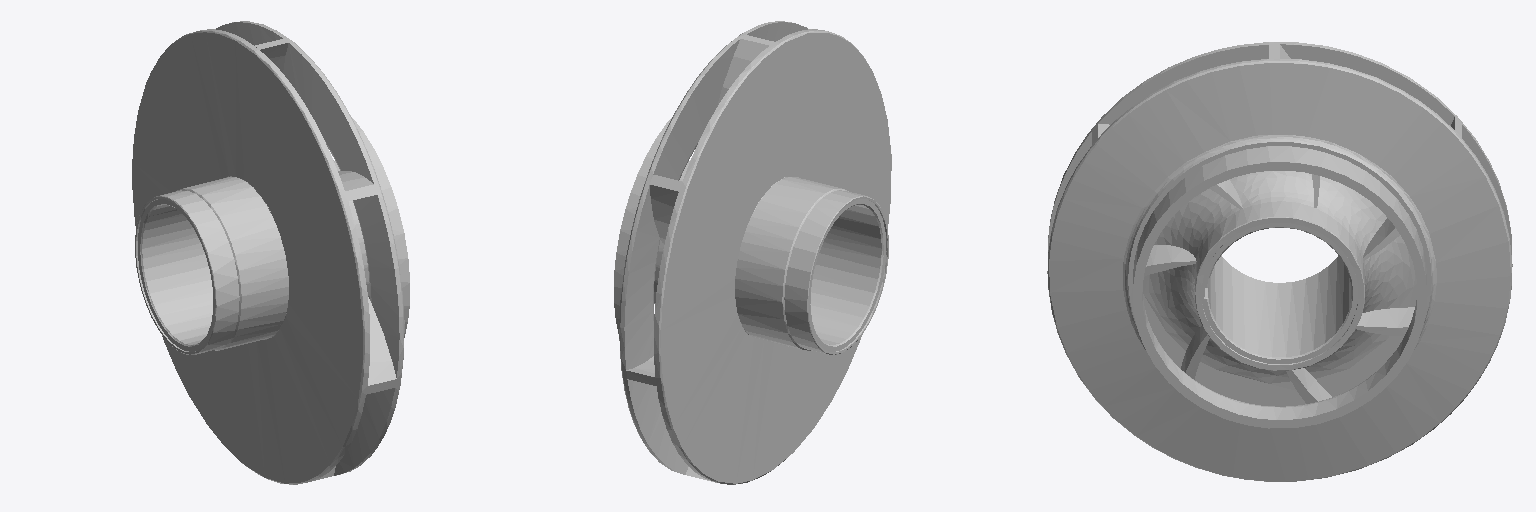
The model's file is First Stage Wheel.obj.
3 renders of one model, left to right at view 1: azimuth 30°, elevation 25°; view 2: azimuth 150°, elevation 25°; view 3: azimuth 270°, elevation 25°, orthographic.
Visible parts, largest first — view 1: imagetostl_mesh; view 2: imagetostl_mesh; view 3: imagetostl_mesh.
Part boxes in pixels (bbox=[...]): imagetostl_mesh: bbox=[132, 21, 409, 484]; imagetostl_mesh: bbox=[614, 21, 891, 484]; imagetostl_mesh: bbox=[1047, 42, 1512, 481].
Bounding box in the file's own units: 124 × 308 × 308.